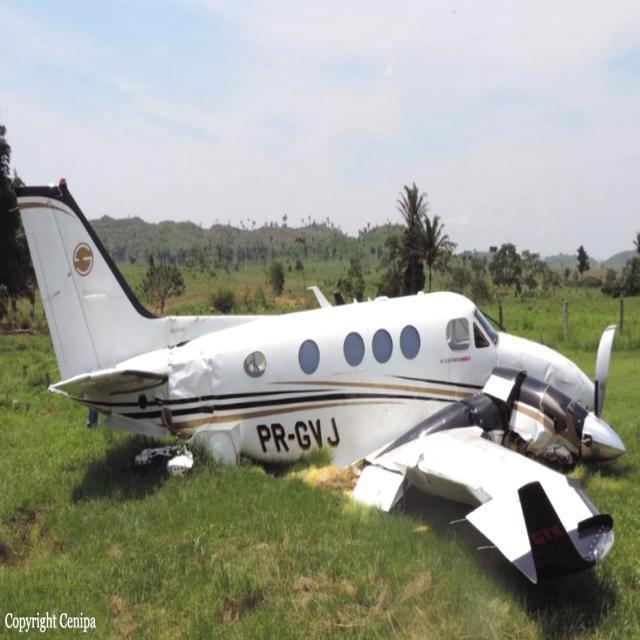dent: (168, 348, 231, 426)
